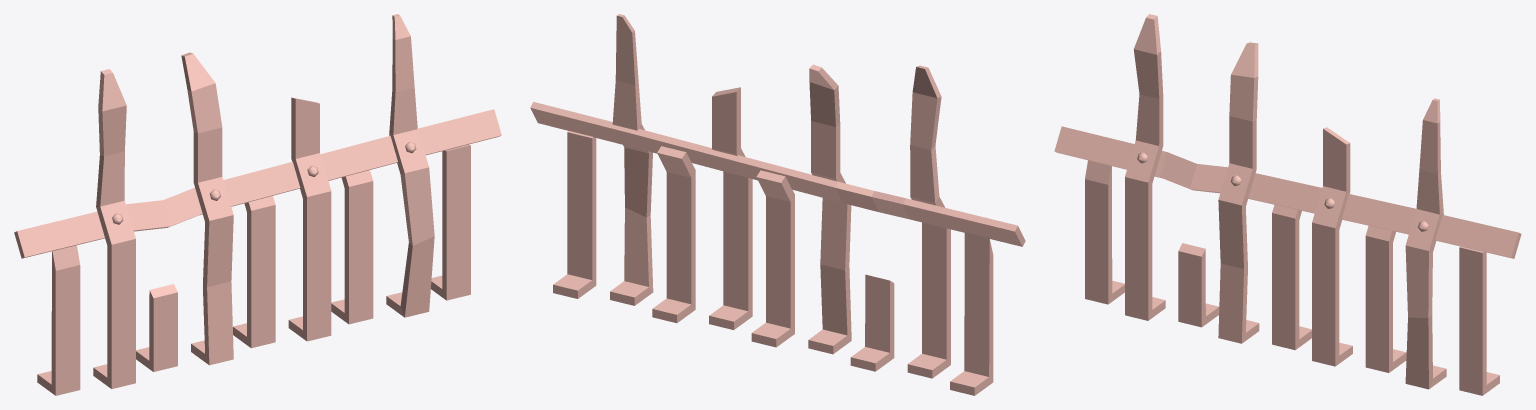
File: Mega_Asset_s_Pack_Cube_221.FBX
The picture shows the model from 3 angles, left to right: view 1: azimuth 30°, elevation 25°; view 2: azimuth 150°, elevation 25°; view 3: azimuth 330°, elevation 25°; orthographic projection. The views are drawn at different scales.
Visible parts, largest first — view 1: Mega_Asset_s_Pack_Cube_221; view 2: Mega_Asset_s_Pack_Cube_221; view 3: Mega_Asset_s_Pack_Cube_221.
Part boxes in pixels (x1,y1,x2,y2): Mega_Asset_s_Pack_Cube_221: (14, 14, 501, 395); Mega_Asset_s_Pack_Cube_221: (530, 14, 1025, 395); Mega_Asset_s_Pack_Cube_221: (1054, 14, 1521, 395).
Size of what is drawn, in the model's own units: 347 by 42.42 by 211.
